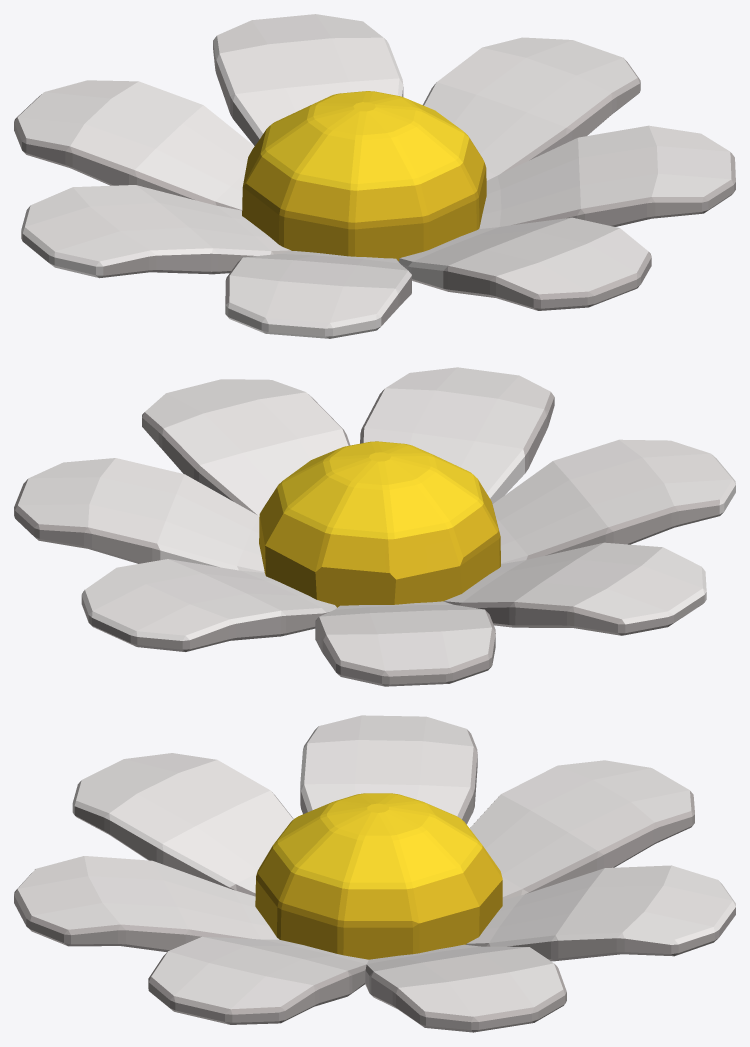
The model's file is Fleure.fbx.
The picture shows the model from 3 angles, top to bottom: view 1: azimuth 30°, elevation 25°; view 2: azimuth 150°, elevation 25°; view 3: azimuth 270°, elevation 25°; orthographic projection.
Parts seen in each view (by area): view 1: Fleure.002; view 2: Fleure.002; view 3: Fleure.002.
Boxes of the visible parts, x1,y1,x2,y2 form: Fleure.002: (14,14,735,338); Fleure.002: (14,367,735,686); Fleure.002: (14,715,735,1032).
Size of the model in its own units: 941 by 176 by 942.
